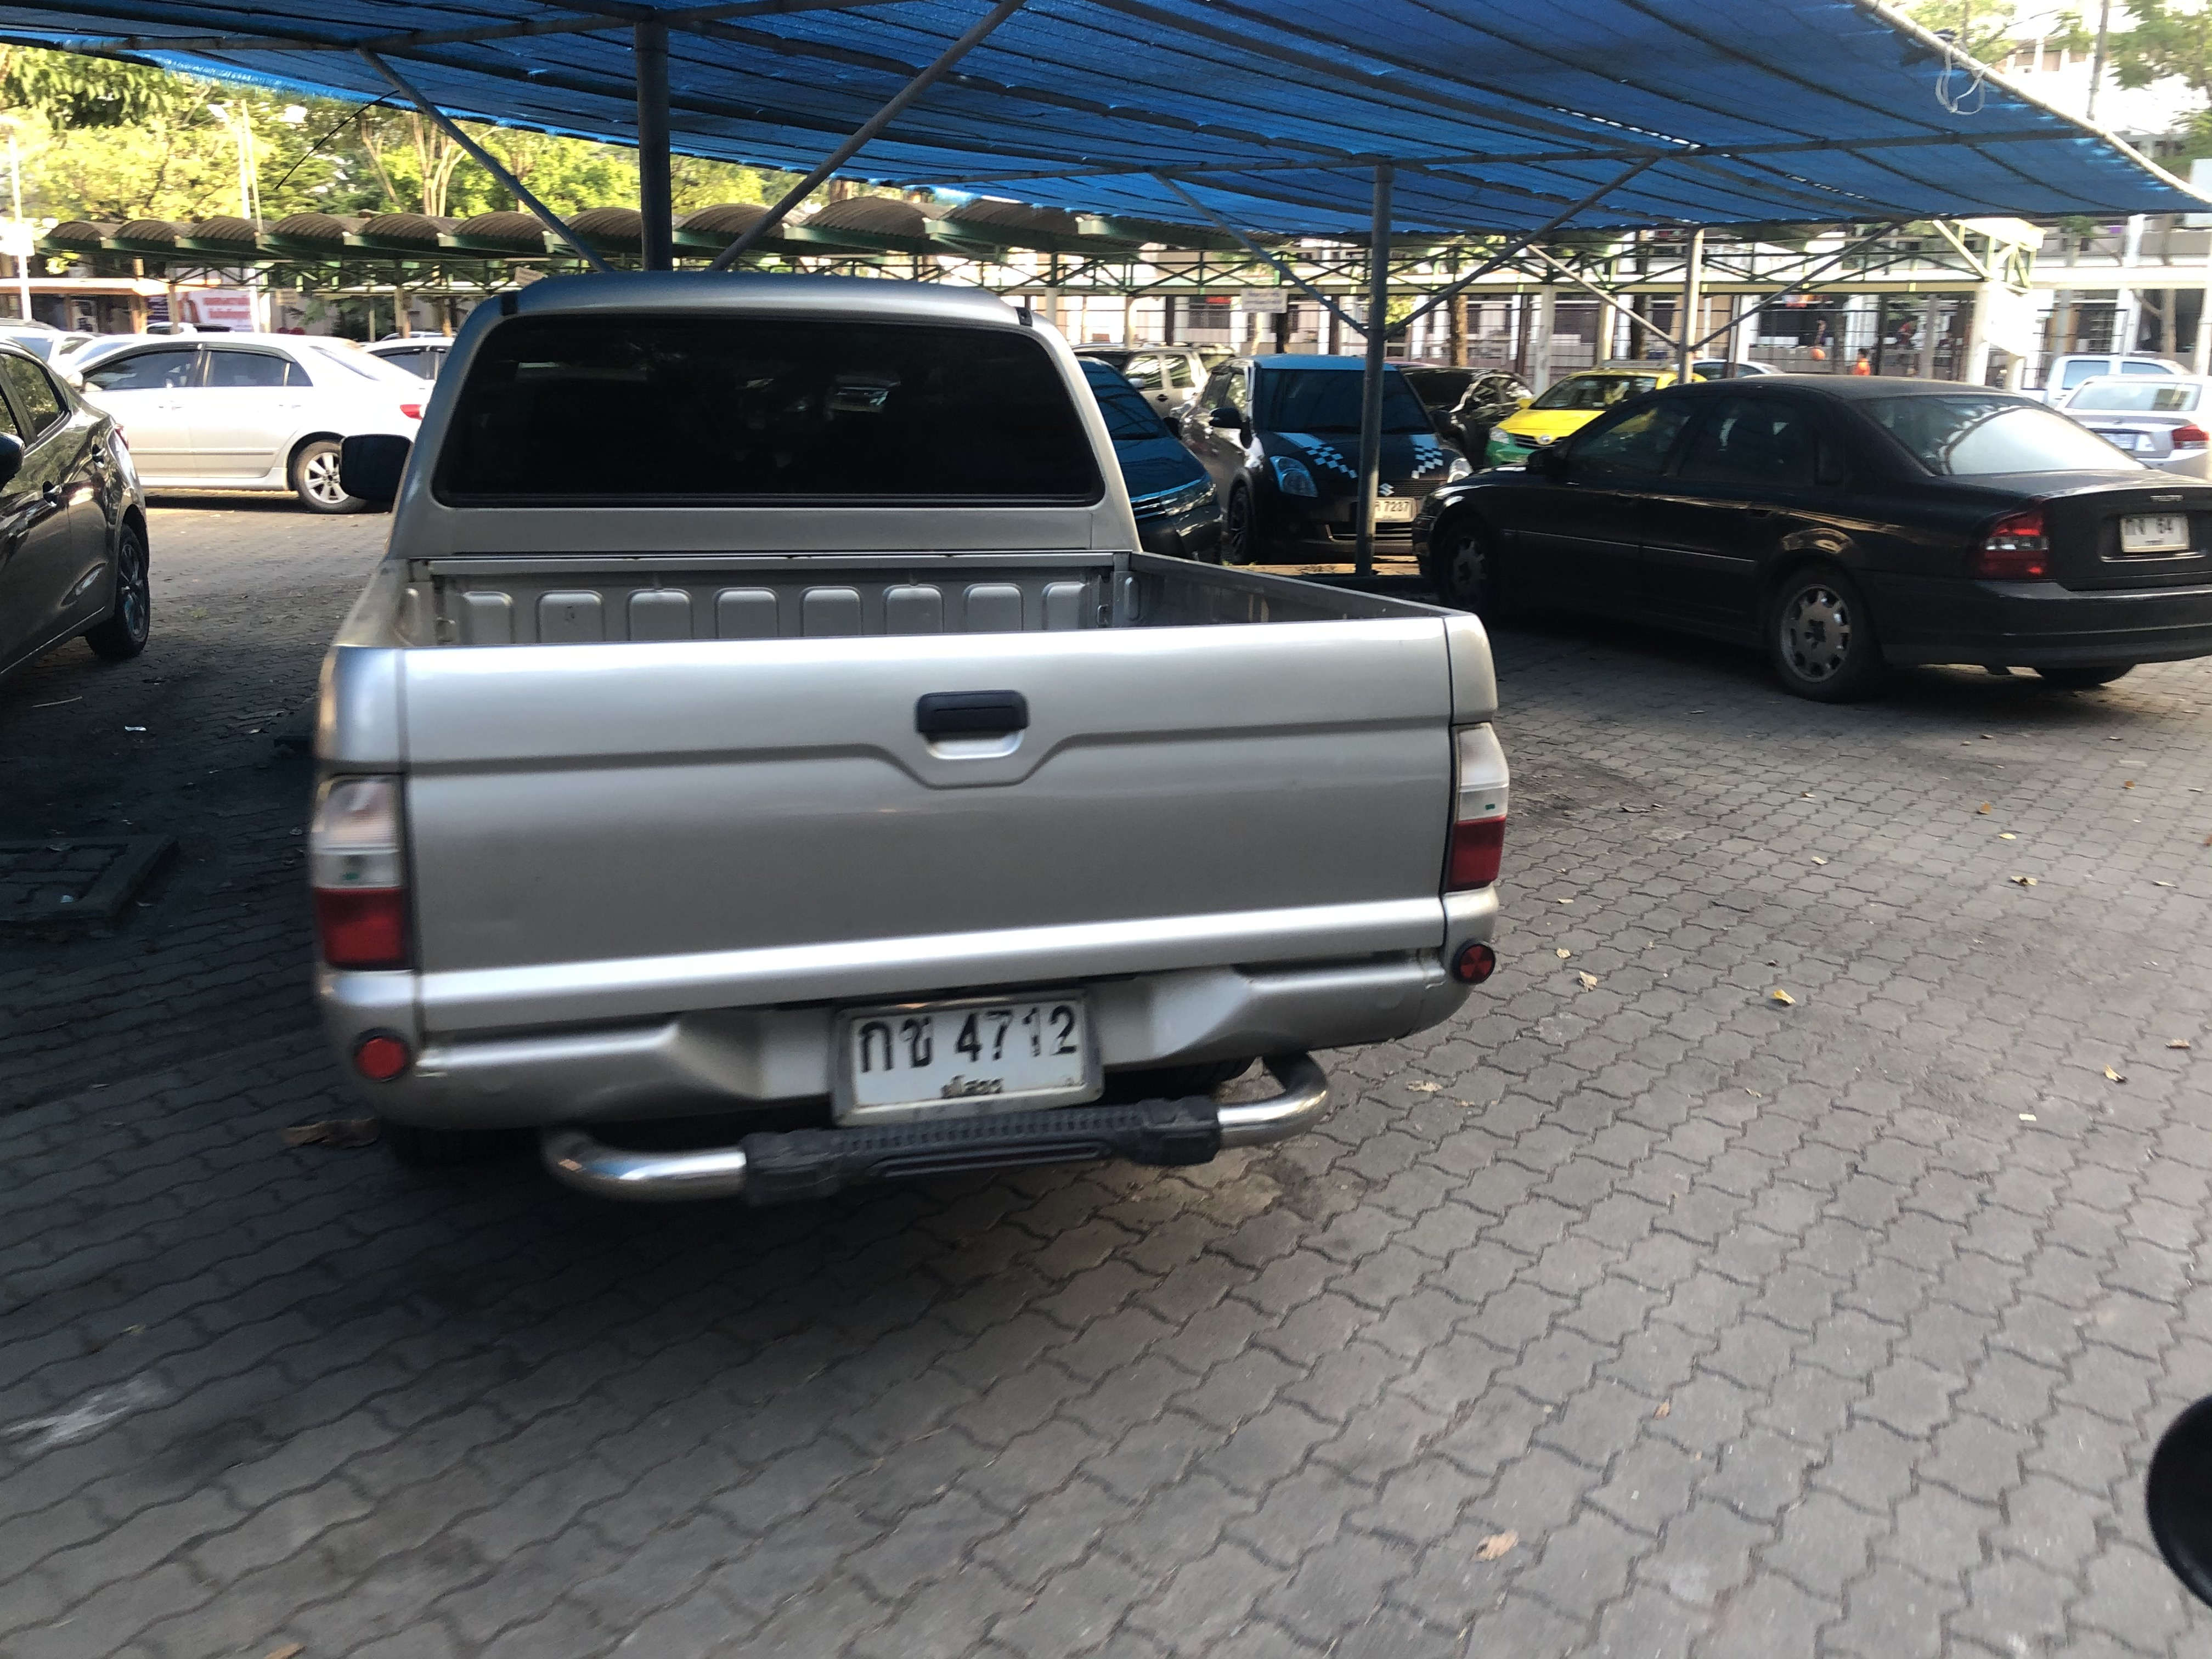in: (855, 999, 1087, 1110)
out: (833, 988, 1104, 1124)
